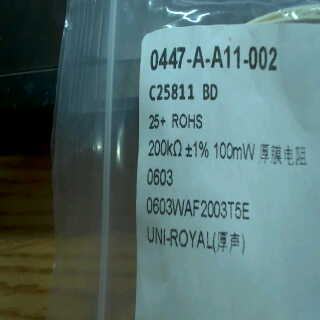200kR: (143, 135, 186, 159)
